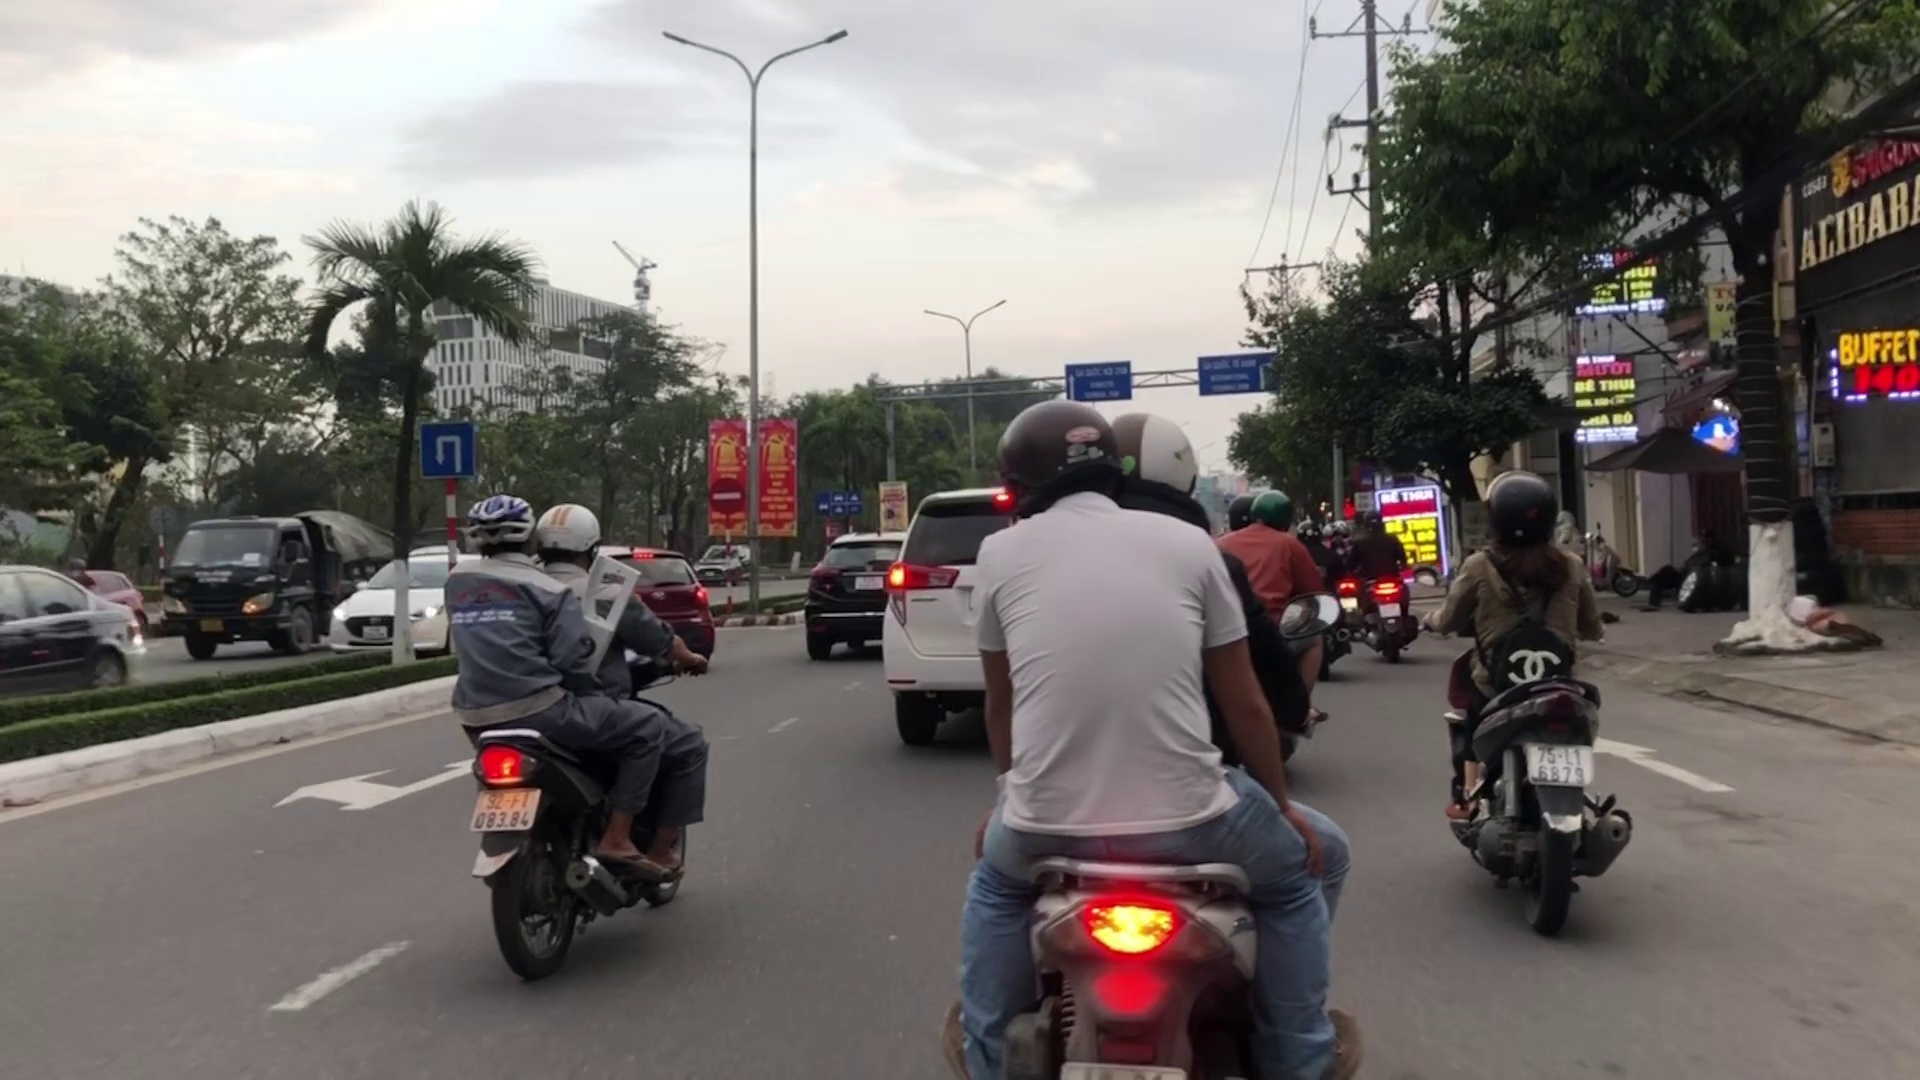Bien khac: (417, 419, 475, 483)
